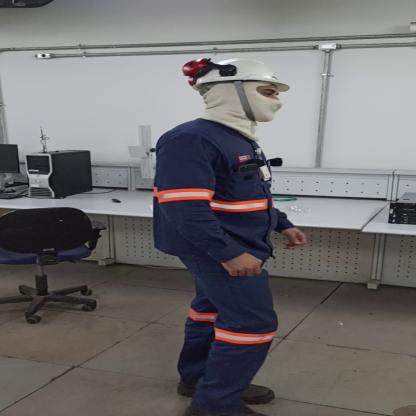Balaclava: (194, 86, 291, 144)
Capacete: (181, 56, 307, 91)
